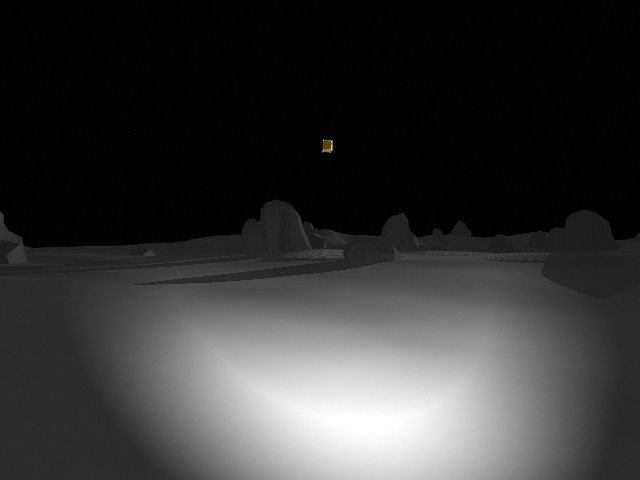cubesat: (319, 136, 336, 156)
